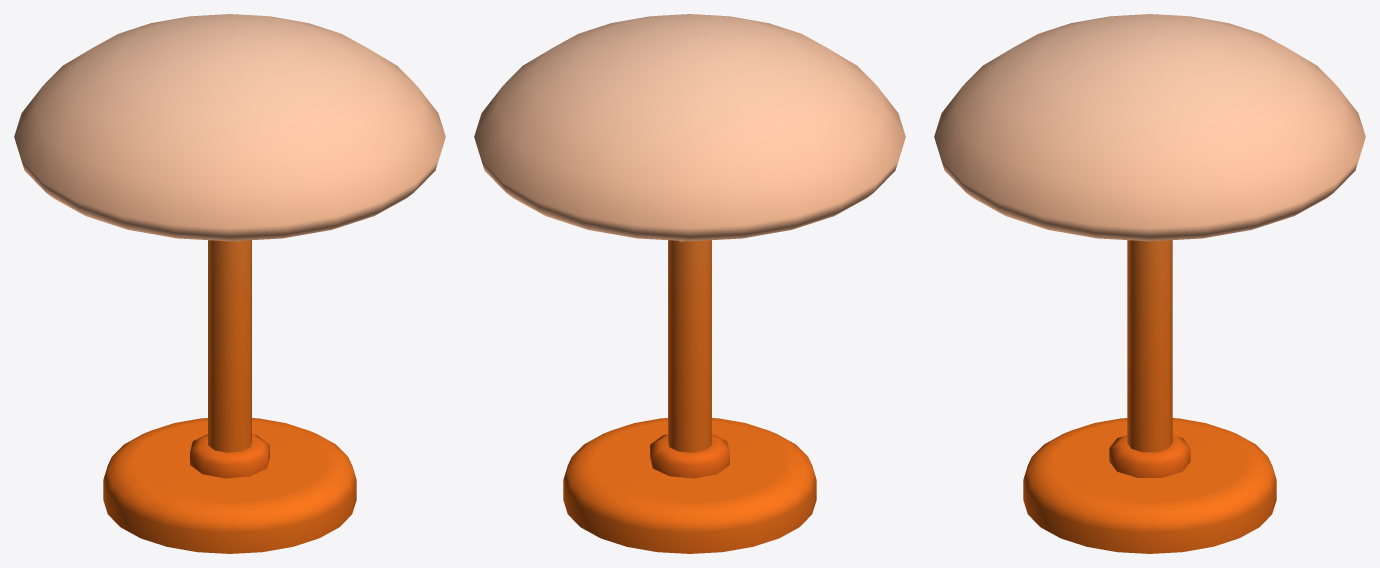
The model's file is Light_002.fbx.
The picture shows the model from 3 angles, left to right: view 1: azimuth 30°, elevation 25°; view 2: azimuth 150°, elevation 25°; view 3: azimuth 270°, elevation 25°; orthographic projection.
Visible parts, largest first — view 1: Light_002; view 2: Light_002; view 3: Light_002.
Boxes of the visible parts, x1,y1,x2,y2 form: Light_002: (14, 14, 445, 553); Light_002: (474, 14, 905, 553); Light_002: (934, 14, 1365, 553).
Bounding box in the file's own units: 0.371 × 0.4324 × 0.371.
